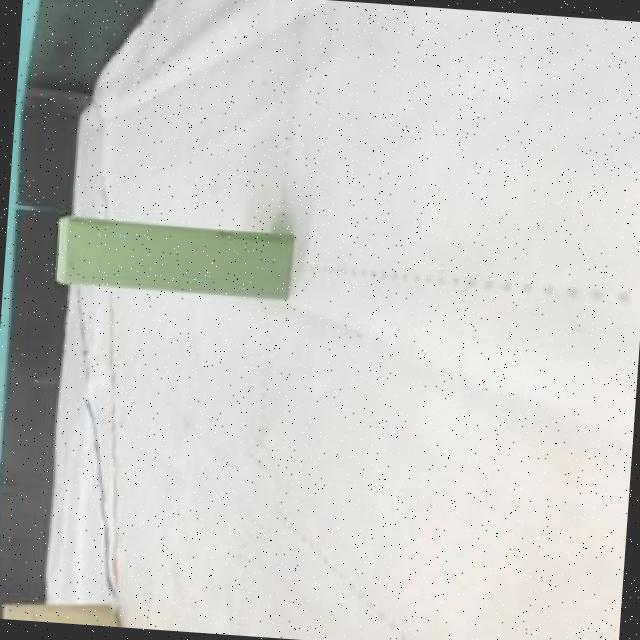greenbox: (49, 213, 294, 306)
